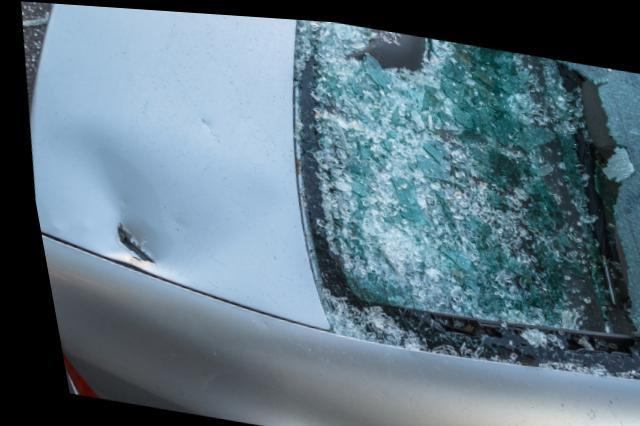crack: (108, 223, 144, 262)
dent: (27, 119, 158, 261)
glass shatter: (290, 16, 640, 373)
